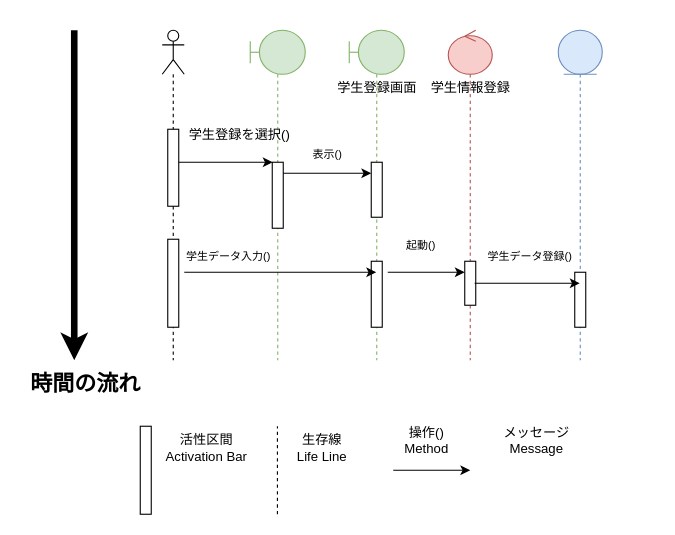
Image size: 675x535. Some labels were removed from this diagram. The box of each missing label's shape, as (x1, y1, x2, y2) in pixels:
メニュー画面: (249, 29, 305, 360)
学生オブジェクト: (557, 29, 602, 360)
